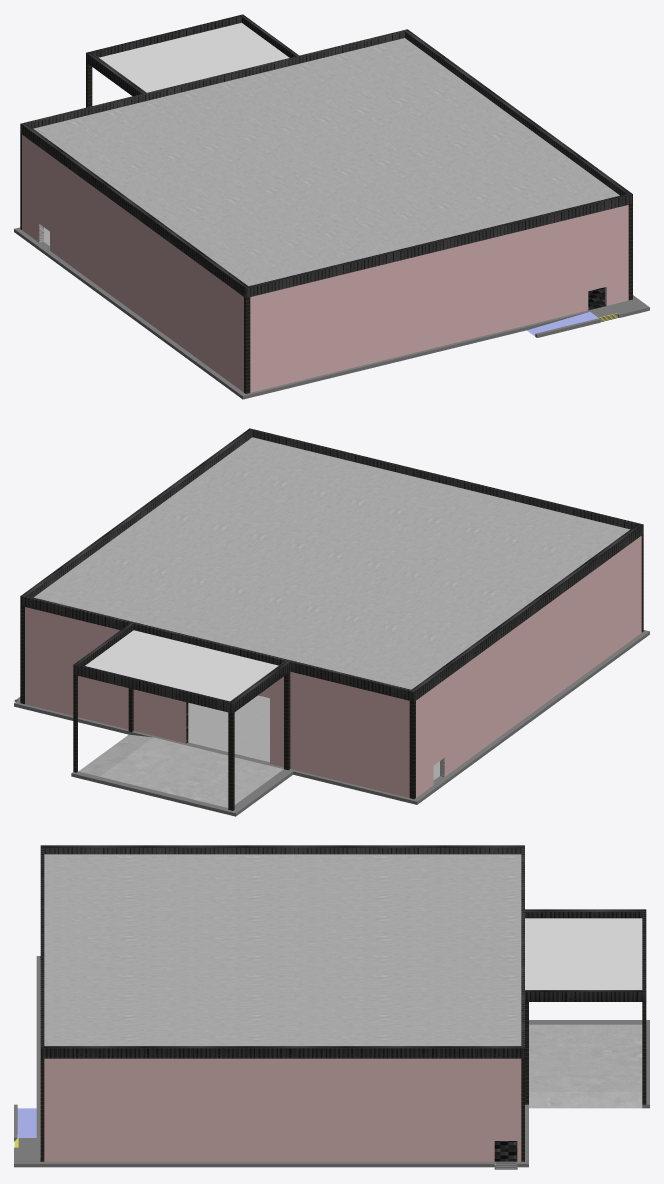
File: WarehouseV2.fbx
3 views of the same model, one above another, from view 1: azimuth 30°, elevation 25°; view 2: azimuth 150°, elevation 25°; view 3: azimuth 270°, elevation 25° (orthographic). The views are drawn at different scales.
Visible parts, largest first — view 1: WarehouseTest; view 2: WarehouseTest; view 3: WarehouseTest.
Part boxes in pixels (left/top/right/bottom): WarehouseTest: left=14, top=14, right=649, bottom=399; WarehouseTest: left=14, top=428, right=649, bottom=816; WarehouseTest: left=14, top=845, right=649, bottom=1169.
Bounding box in the file's own units: 13150 × 3400 × 16800.
